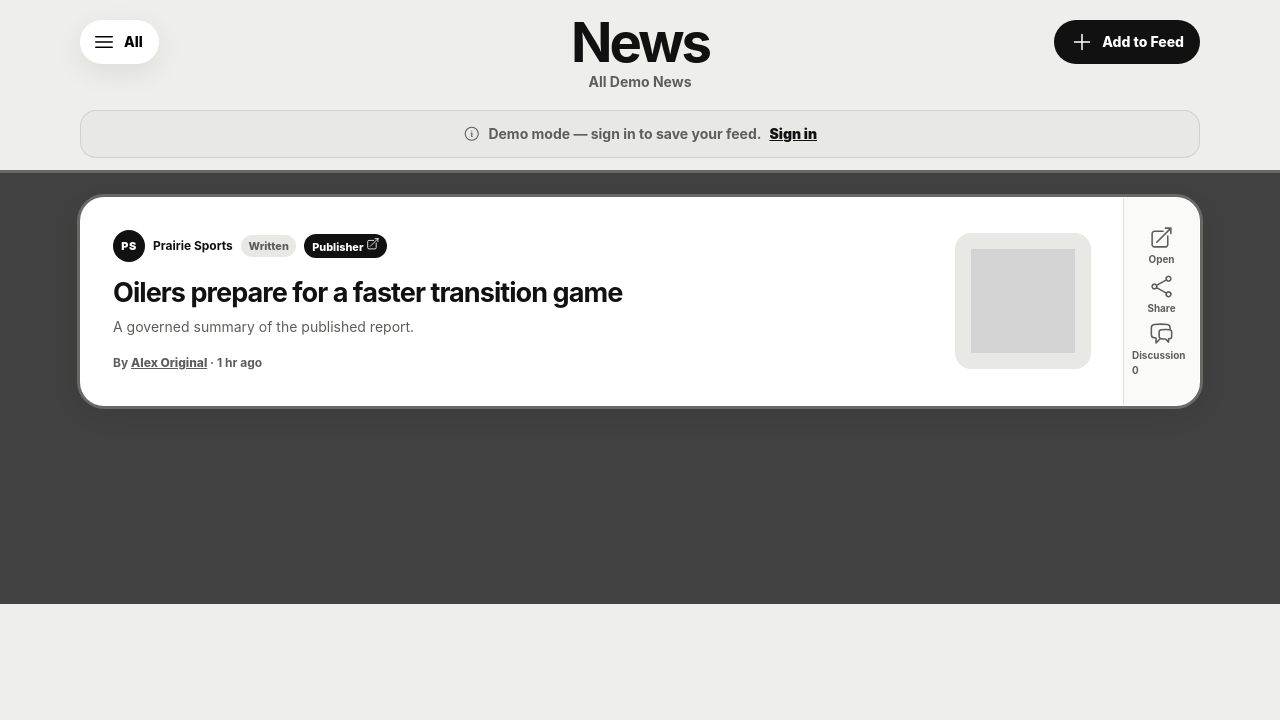
Phase 4 News frontend › starts signed-out Demo at All Demo News regardless of the global selected Team
expect the text "Demo mode — sign in to save your feed." is shown: met, box [488,123,761,145]
expect the heading "Oilers prepare for a faster transition game" is shown: met, box [113,278,623,308]
Click the button "Add to Feed": (1127, 42) [1054,20,1200,64]
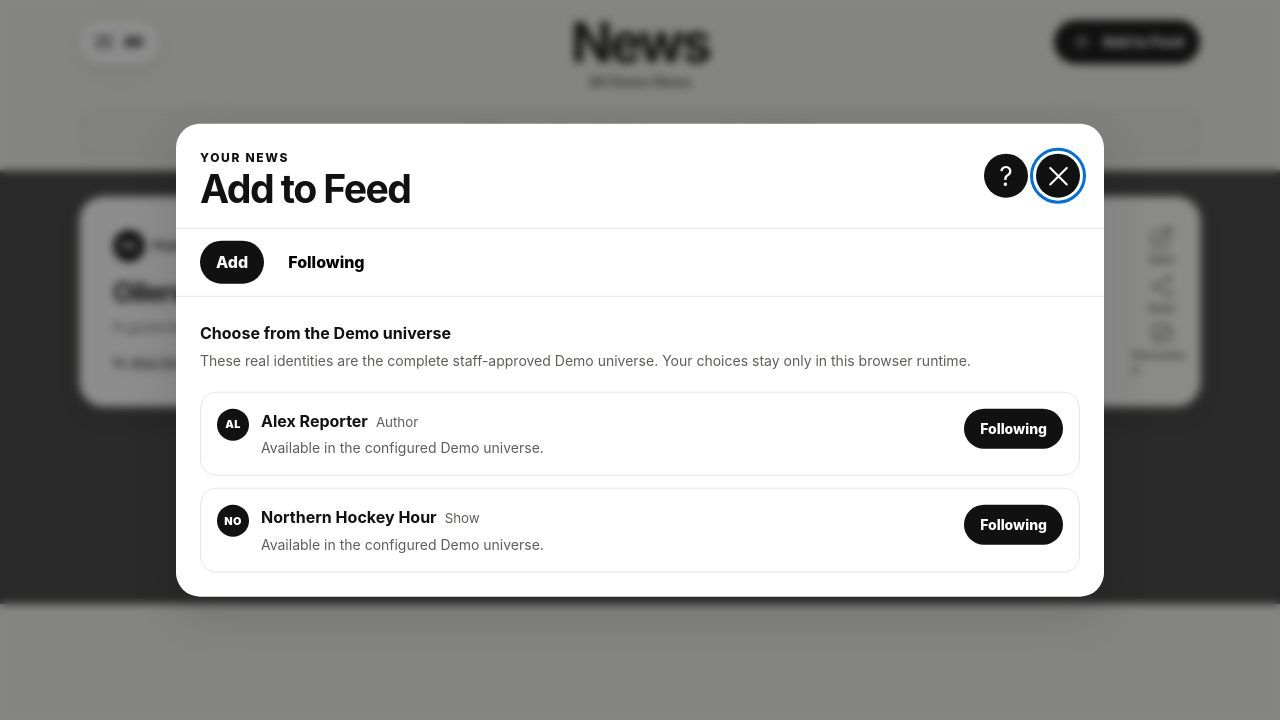
expect the heading "Alex Reporter" is shown: met, box [261,408,368,433]
